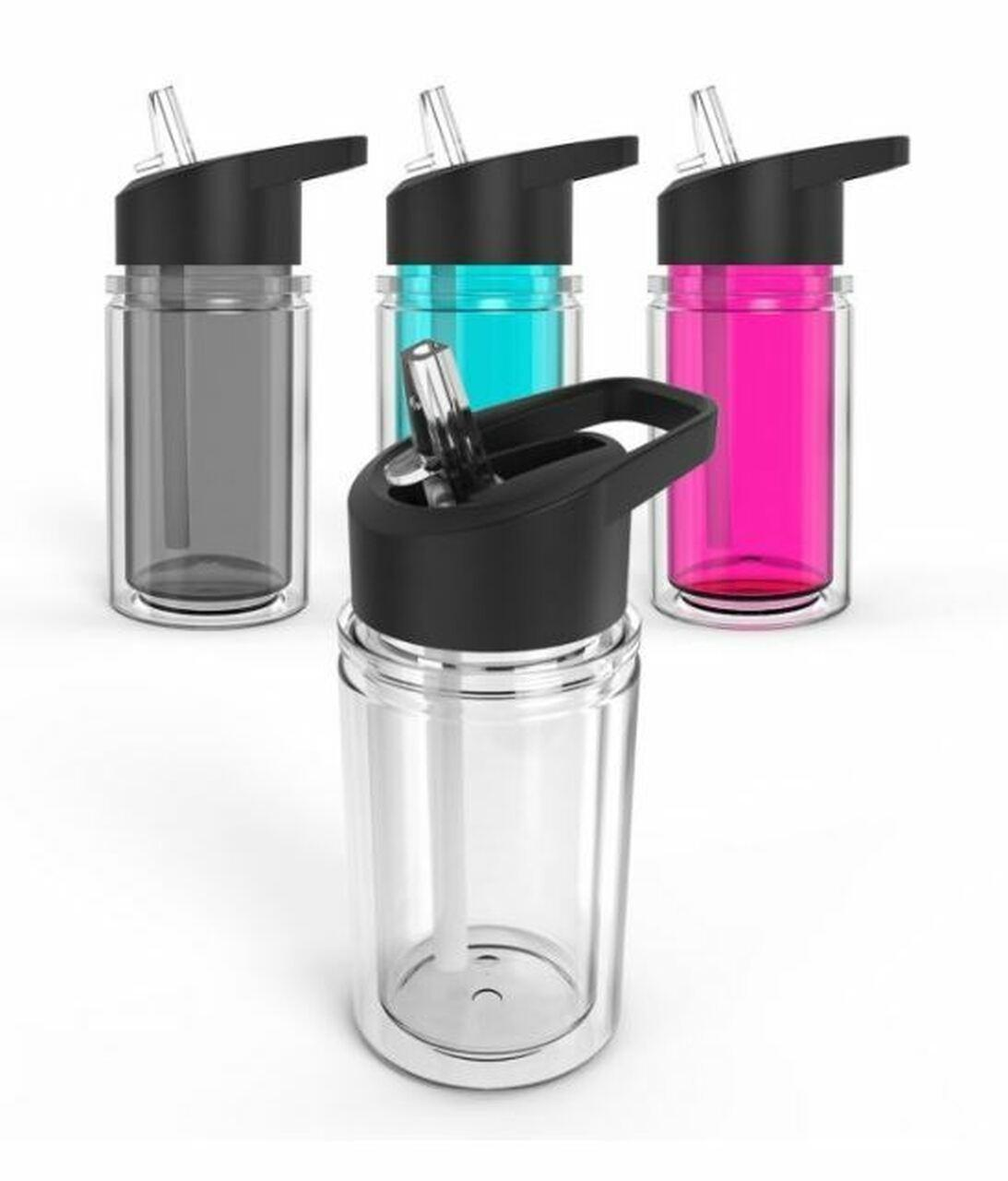gym bottle: (333, 349, 652, 1096), (641, 80, 910, 631), (98, 81, 330, 631), (378, 80, 592, 406)
